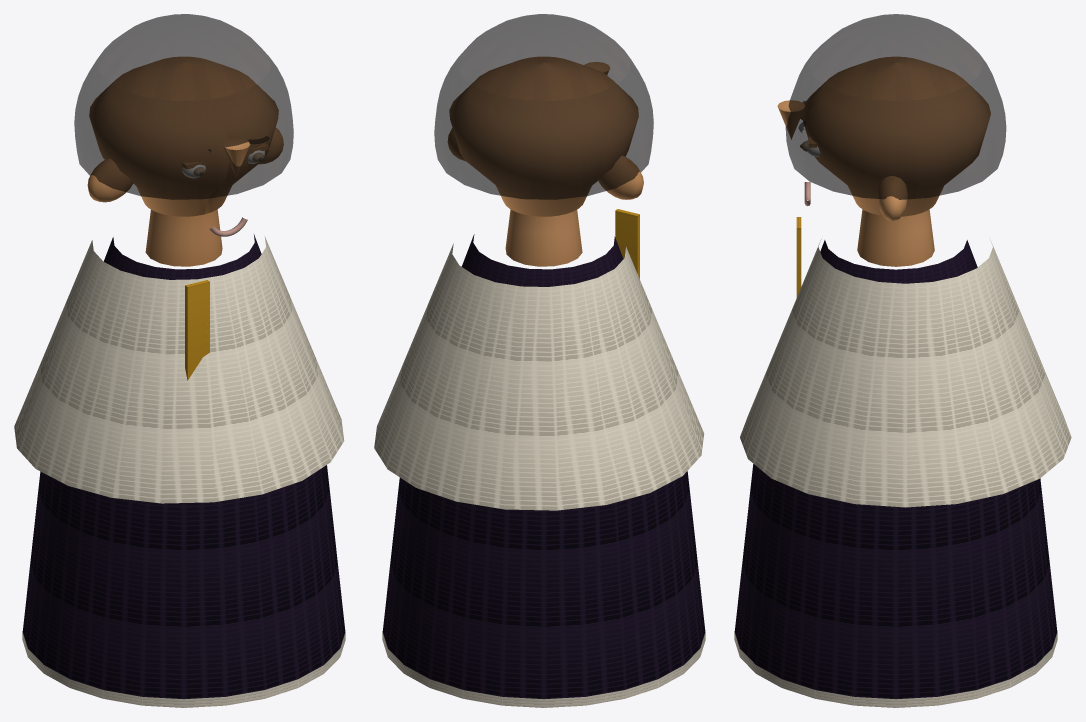
Rendered from rich_young_ruler.glb.
The picture shows the model from 3 angles, left to right: view 1: azimuth 30°, elevation 25°; view 2: azimuth 150°, elevation 25°; view 3: azimuth 270°, elevation 25°; orthographic projection.
Parts seen in each view (by area): view 1: Character_rich_young_ruler, head; view 2: Character_rich_young_ruler, head; view 3: Character_rich_young_ruler, head.
Boxes of the visible parts, <box> form: Character_rich_young_ruler: <box>14,14,345,707</box>; head: <box>89,57,278,216</box>; Character_rich_young_ruler: <box>374,14,705,707</box>; head: <box>449,57,638,216</box>; Character_rich_young_ruler: <box>734,14,1071,707</box>; head: <box>801,57,990,216</box>.
Bounding box in the file's own units: 0.8791 × 1.8 × 0.8937.
10 materials, 6 textured.
